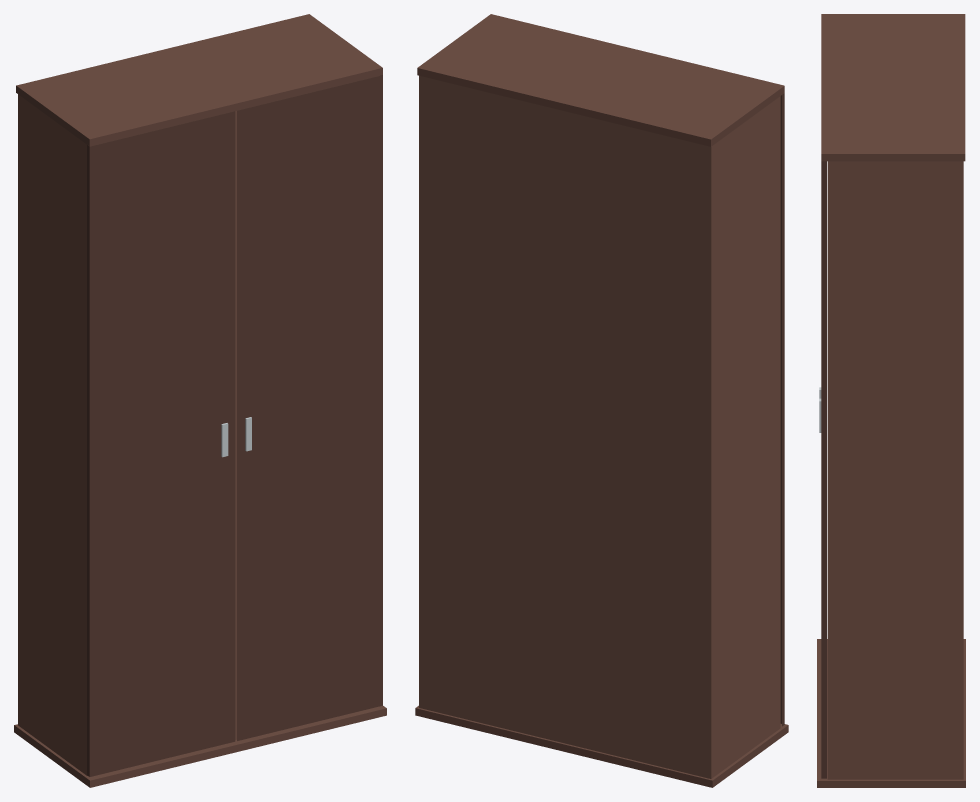
File: closet_008.fbx
3 renders of one model, left to right at view 1: azimuth 30°, elevation 25°; view 2: azimuth 150°, elevation 25°; view 3: azimuth 270°, elevation 25°, orthographic. The views are drawn at different scales.
Parts seen in each view (by area): view 1: closet_008; view 2: closet_008; view 3: closet_008.
Part boxes in pixels (<box>): closet_008: <box>14,14,386,787</box>; closet_008: <box>415,14,788,787</box>; closet_008: <box>817,14,965,787</box>.
Size of the model in its own units: 85 by 37.69 by 177.
